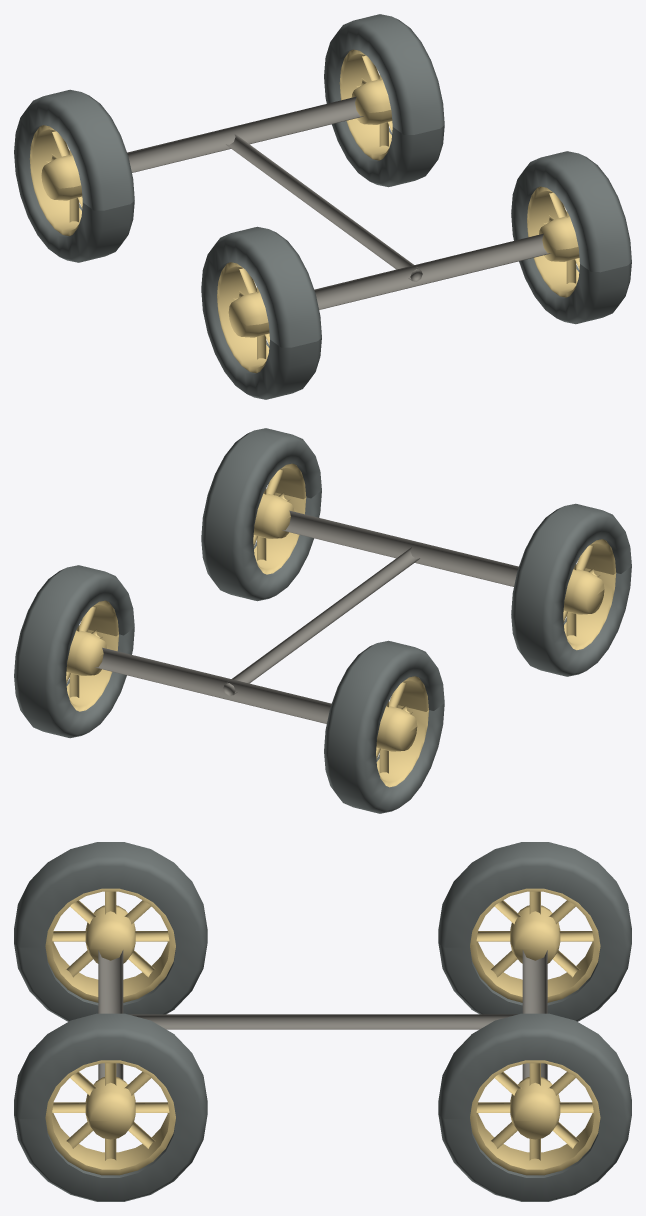
The model's file is car_tray_wings.glb.
3 views of the same model, one above another, from view 1: azimuth 30°, elevation 25°; view 2: azimuth 150°, elevation 25°; view 3: azimuth 270°, elevation 25° (orthographic). The views are drawn at different scales.
Visible parts, largest first — view 1: Car_Tire_L_R, Car_Tire_L_F, Car_Tire_R_F, Car_Tire_R_R, Car_Axle_Frame; view 2: Car_Tire_L_F, Car_Tire_L_R, Car_Tire_R_R, Car_Tire_R_F, Car_Axle_Frame; view 3: Car_Tire_R_R, Car_Tire_R_F, Car_Tire_L_R, Car_Tire_L_F, Car_Axle_Frame.
Boxes of the visible parts, x1,y1,x2,y2 form: Car_Tire_L_R: (14,89,134,262); Car_Tire_L_F: (201,226,321,399); Car_Tire_R_F: (511,151,631,324); Car_Tire_R_R: (324,14,444,187); Car_Axle_Frame: (127,96,550,309); Car_Tire_L_F: (511,503,631,676); Car_Tire_L_R: (324,640,444,813); Car_Tire_R_R: (14,565,134,738); Car_Tire_R_F: (201,428,321,601); Car_Axle_Frame: (95,510,518,723); Car_Tire_R_R: (438,1013,631,1201); Car_Tire_R_F: (14,1013,207,1201); Car_Tire_L_R: (438,842,631,1021); Car_Tire_L_F: (14,842,207,1021); Car_Axle_Frame: (98,950,547,1079).
Bounding box in the file's own units: 0.315 × 0.1289 × 0.4158.
